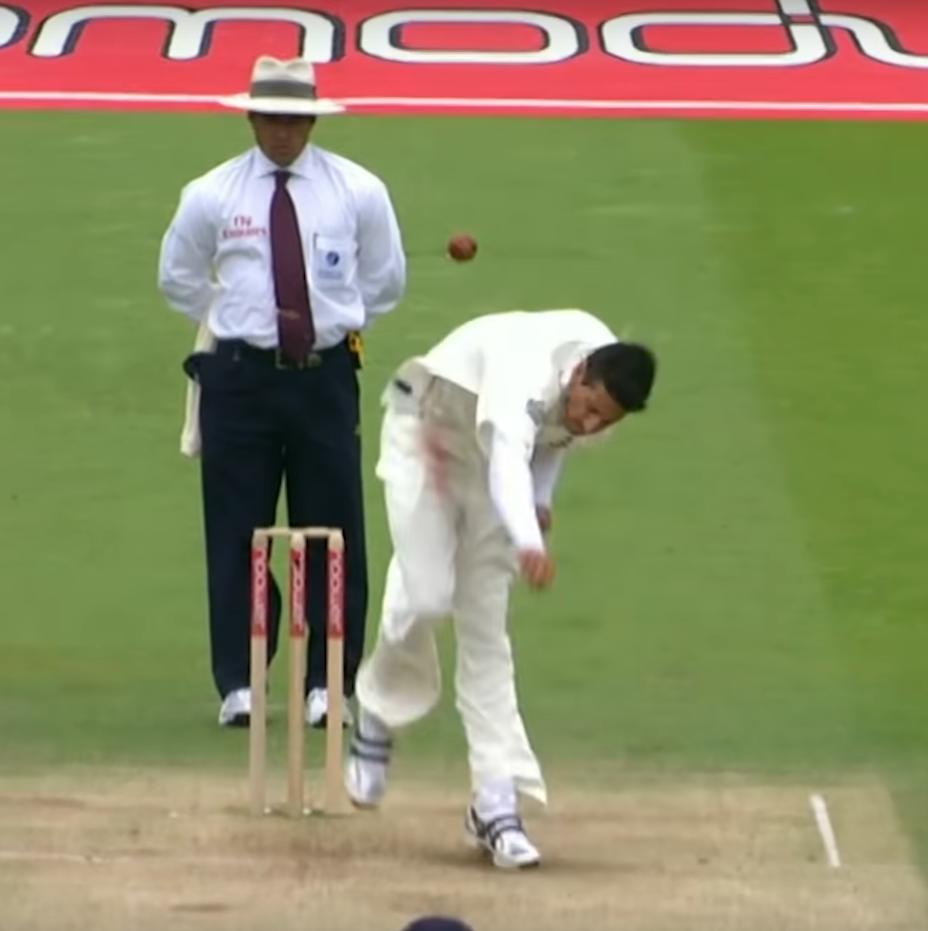Cricket-Ball: (440, 220, 494, 278)
